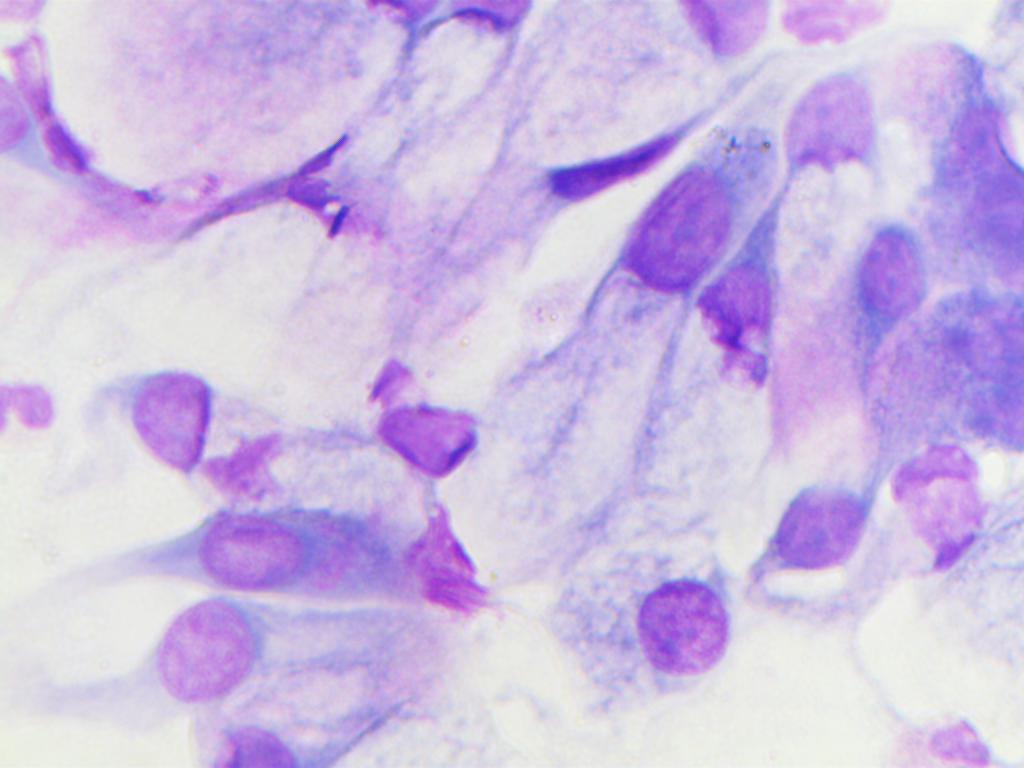artifact: (182, 111, 378, 269), (0, 29, 126, 192), (519, 117, 701, 211), (393, 512, 493, 622)
epithelial: (550, 529, 753, 697), (872, 427, 992, 598), (746, 461, 879, 598), (163, 509, 367, 589), (834, 208, 934, 357), (139, 597, 258, 718), (208, 726, 329, 768)
goblet_cell: (660, 226, 797, 514), (96, 374, 340, 512), (586, 166, 736, 357), (367, 394, 554, 516), (571, 0, 764, 93), (393, 0, 554, 91), (783, 65, 883, 204)
